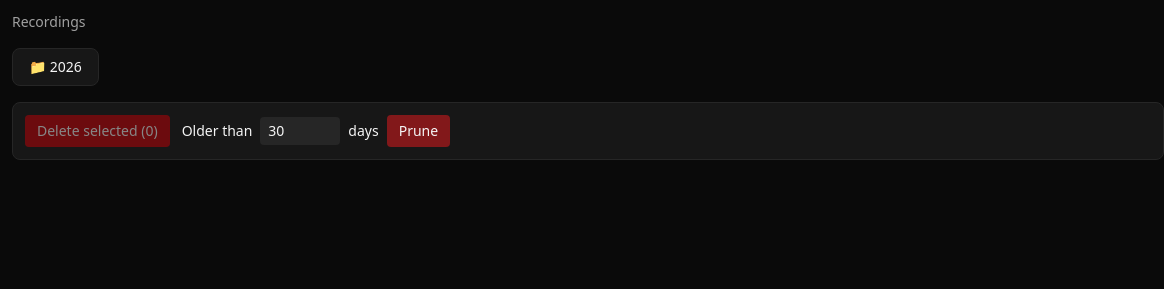
Test: navigates to the correct dir when clicking a mid-path breadcrumb segment
The image size is (1164, 289).
Click the button named "open folder 2026" at (55, 67), box x1=12 y1=48 x2=99 y2=86
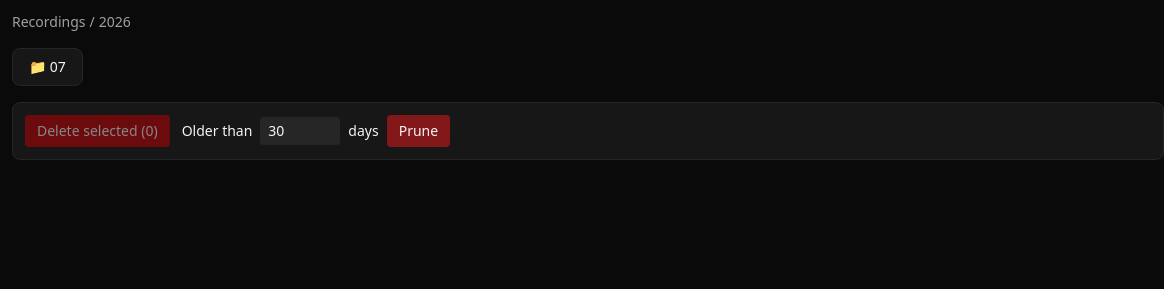
Click the button named "open folder 07" at (47, 67), box x1=12 y1=48 x2=83 y2=86
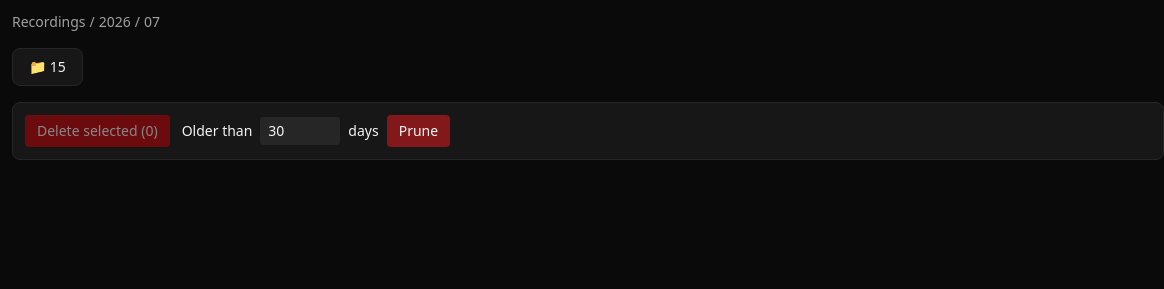
Click the button named "open folder 15" at (47, 67), box x1=12 y1=48 x2=83 y2=86
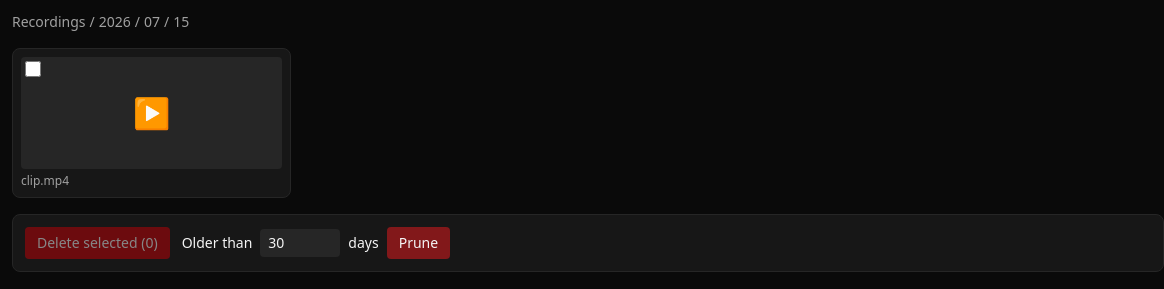
Expected: the text "clip.mp4" is shown, x1=21 y1=172 x2=69 y2=189
Click the button "07" at (152, 22), box x1=144 y1=12 x2=160 y2=32
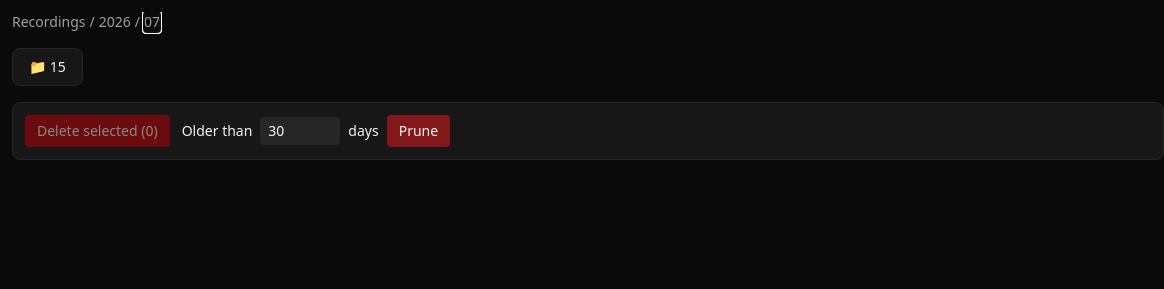
Expected: the button named "open folder 15" is shown, x1=12 y1=48 x2=83 y2=86
